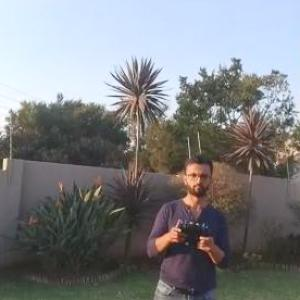follow: (141, 144, 237, 299)
